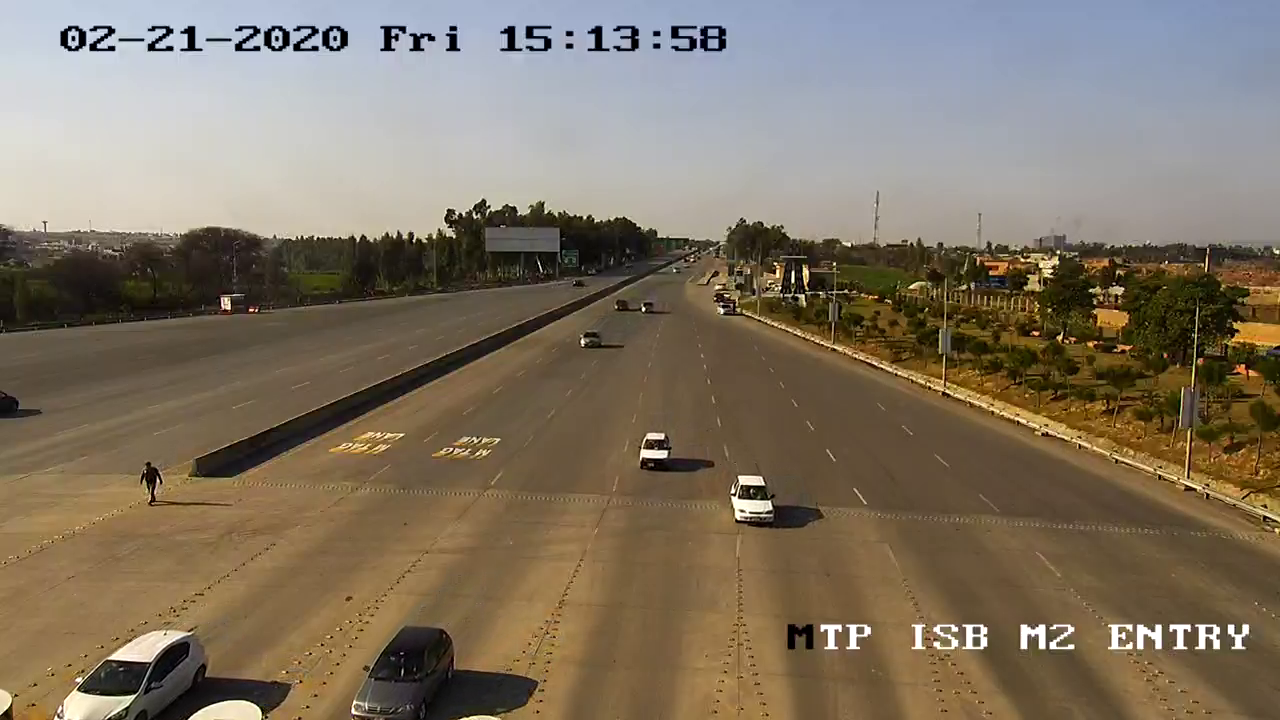f1: (725, 464, 781, 532), (630, 419, 681, 479)
